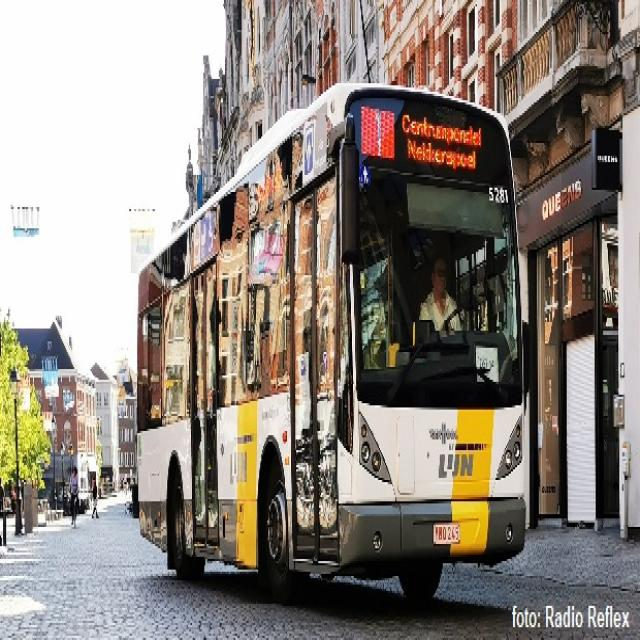bus-number: (362, 106, 395, 158)
